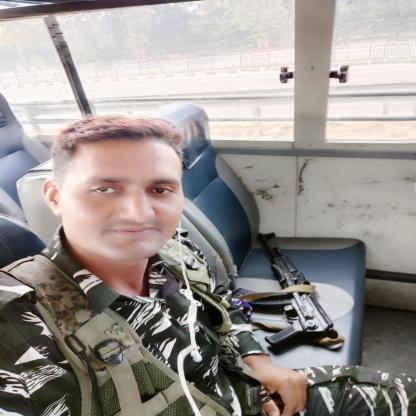rifle: (226, 230, 336, 351)
